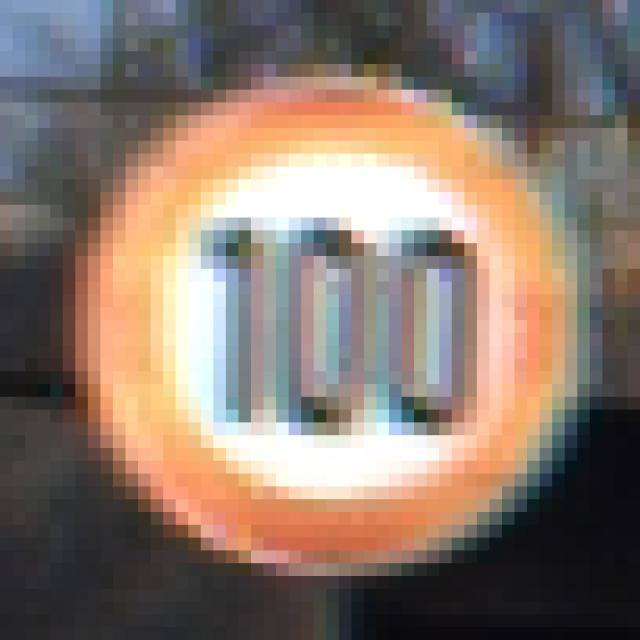Ograniczenie predkosci do 100: (82, 86, 568, 566)
